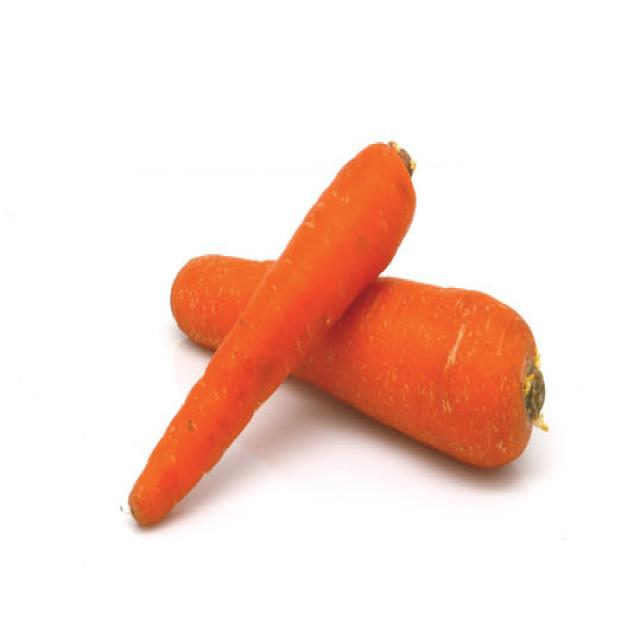Carrot: (127, 139, 417, 526), (168, 251, 548, 469), (168, 251, 276, 350)
